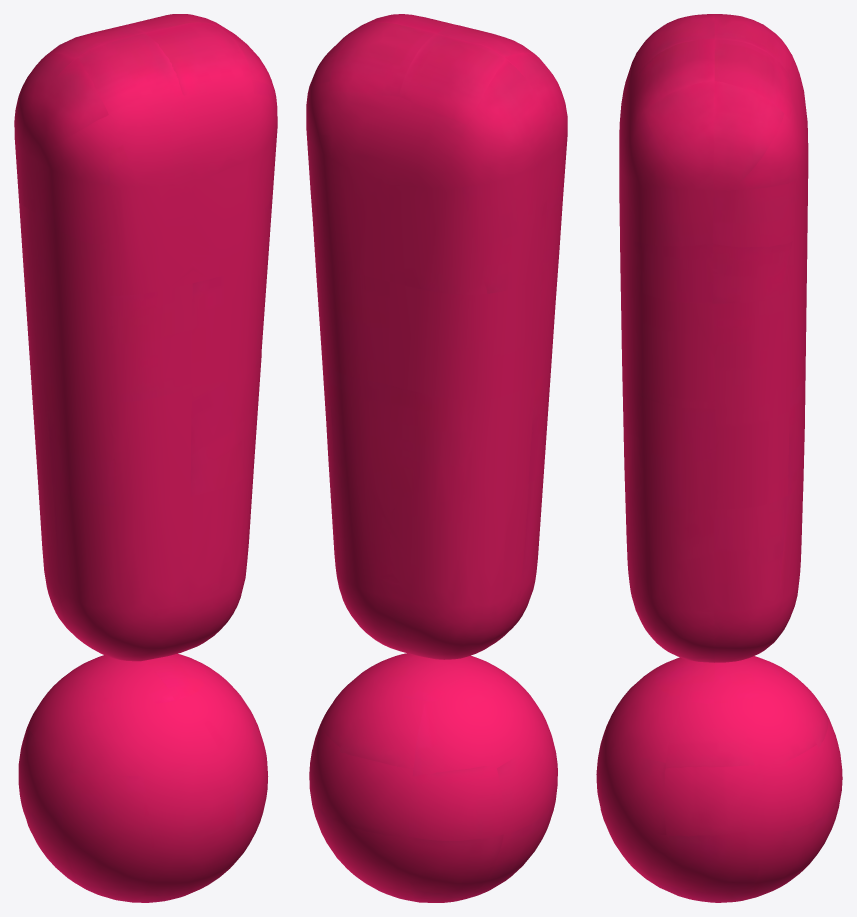
File: poplur_cube_breaking_news.glb
The picture shows the model from 3 angles, left to right: view 1: azimuth 30°, elevation 25°; view 2: azimuth 150°, elevation 25°; view 3: azimuth 270°, elevation 25°; orthographic projection.
Parts seen in each view (by area): view 1: mesh_node; view 2: mesh_node; view 3: mesh_node.
Part boxes in pixels (x1,y1,x2,y2): mesh_node: [14, 14, 277, 902]; mesh_node: [306, 14, 567, 902]; mesh_node: [596, 14, 842, 902].
Bounding box in the file's own units: 0.5262 × 1.9 × 0.4985.
Materials: 1 (1 with a texture image).
